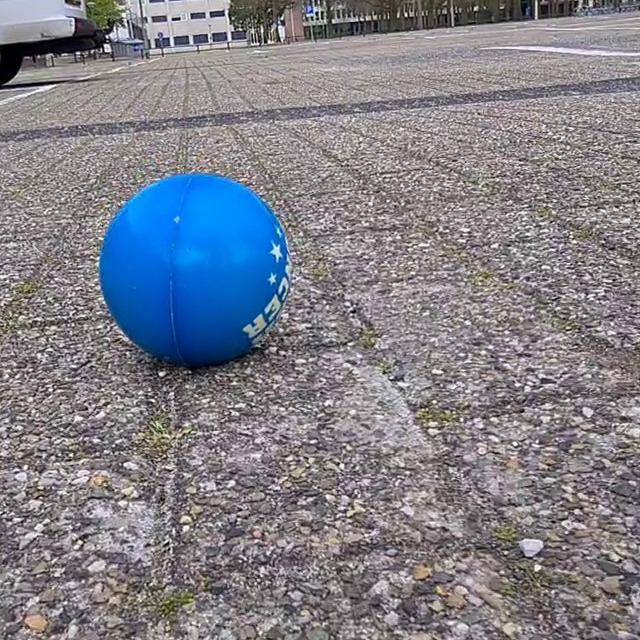ball: (96, 168, 294, 369)
